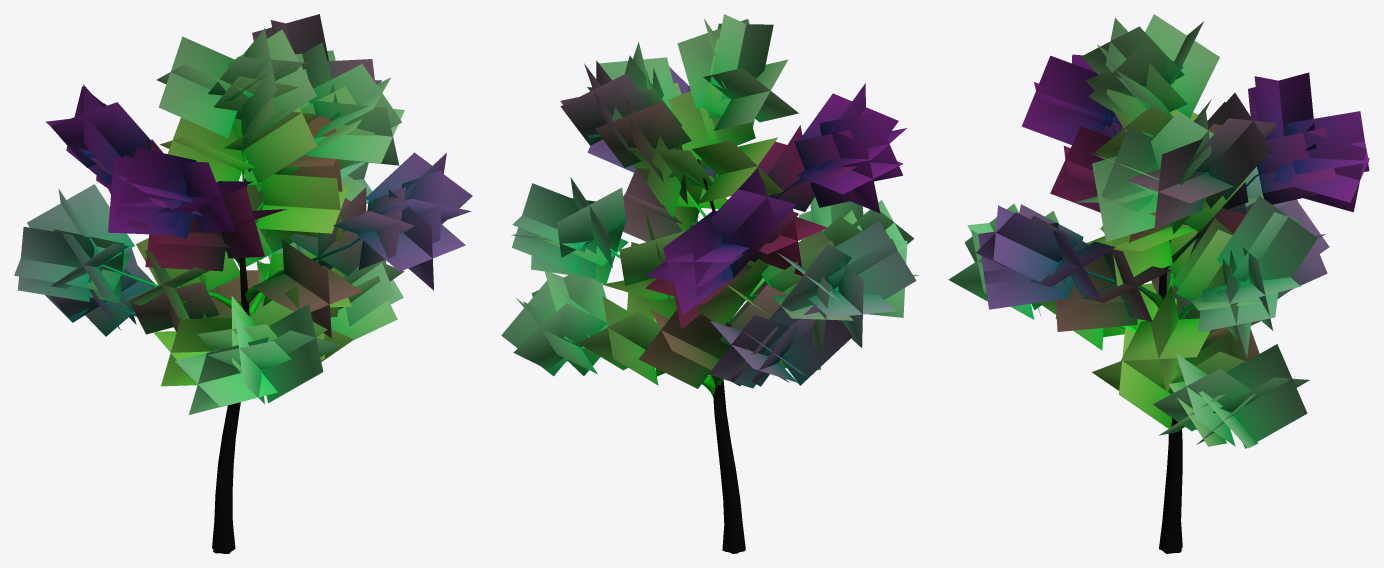
Rendered from M_P3_Tree_2.fbx.
3 views of the same model, side by side, from view 1: azimuth 30°, elevation 25°; view 2: azimuth 150°, elevation 25°; view 3: azimuth 270°, elevation 25° (orthographic). The views are drawn at different scales.
Parts seen in each view (by area): view 1: Tree_2; view 2: Tree_2; view 3: Tree_2.
Boxes of the visible parts, box(x1,y1,x2,y2) form: Tree_2: box(14, 14, 472, 553); Tree_2: box(501, 14, 919, 553); Tree_2: box(948, 14, 1369, 553).
Bounding box in the file's own units: 635 × 826 × 589.
